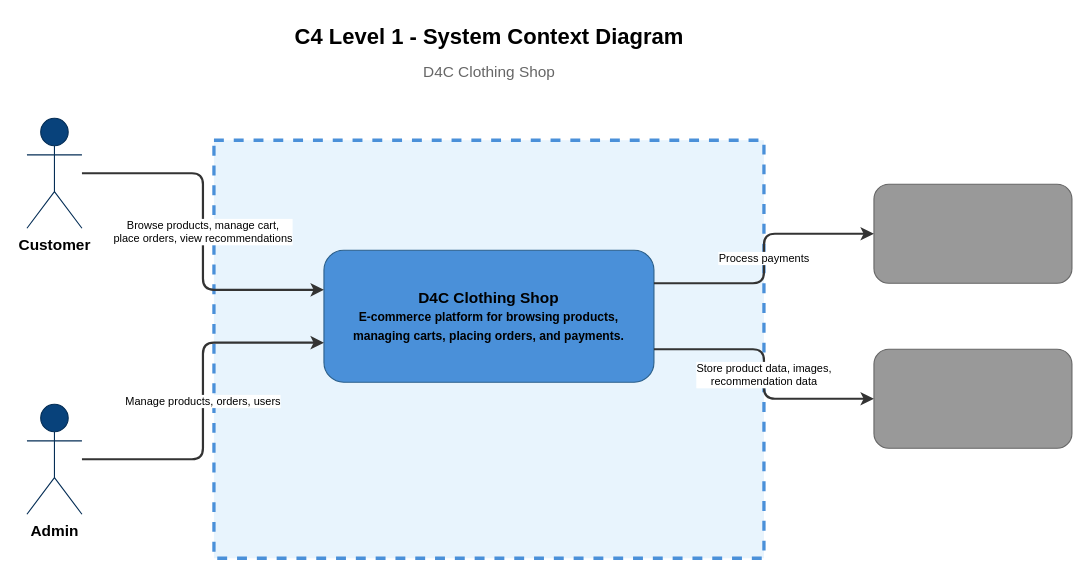
Image size: 1091x579. Some labels were removed from this diagram. Here are the shapes that lost their labels. From the top down, the centre of each, then its label:
the point at 972,233: SePay Payment Gateway
the point at 972,398: AWS Cloud DynamoDB + S3
